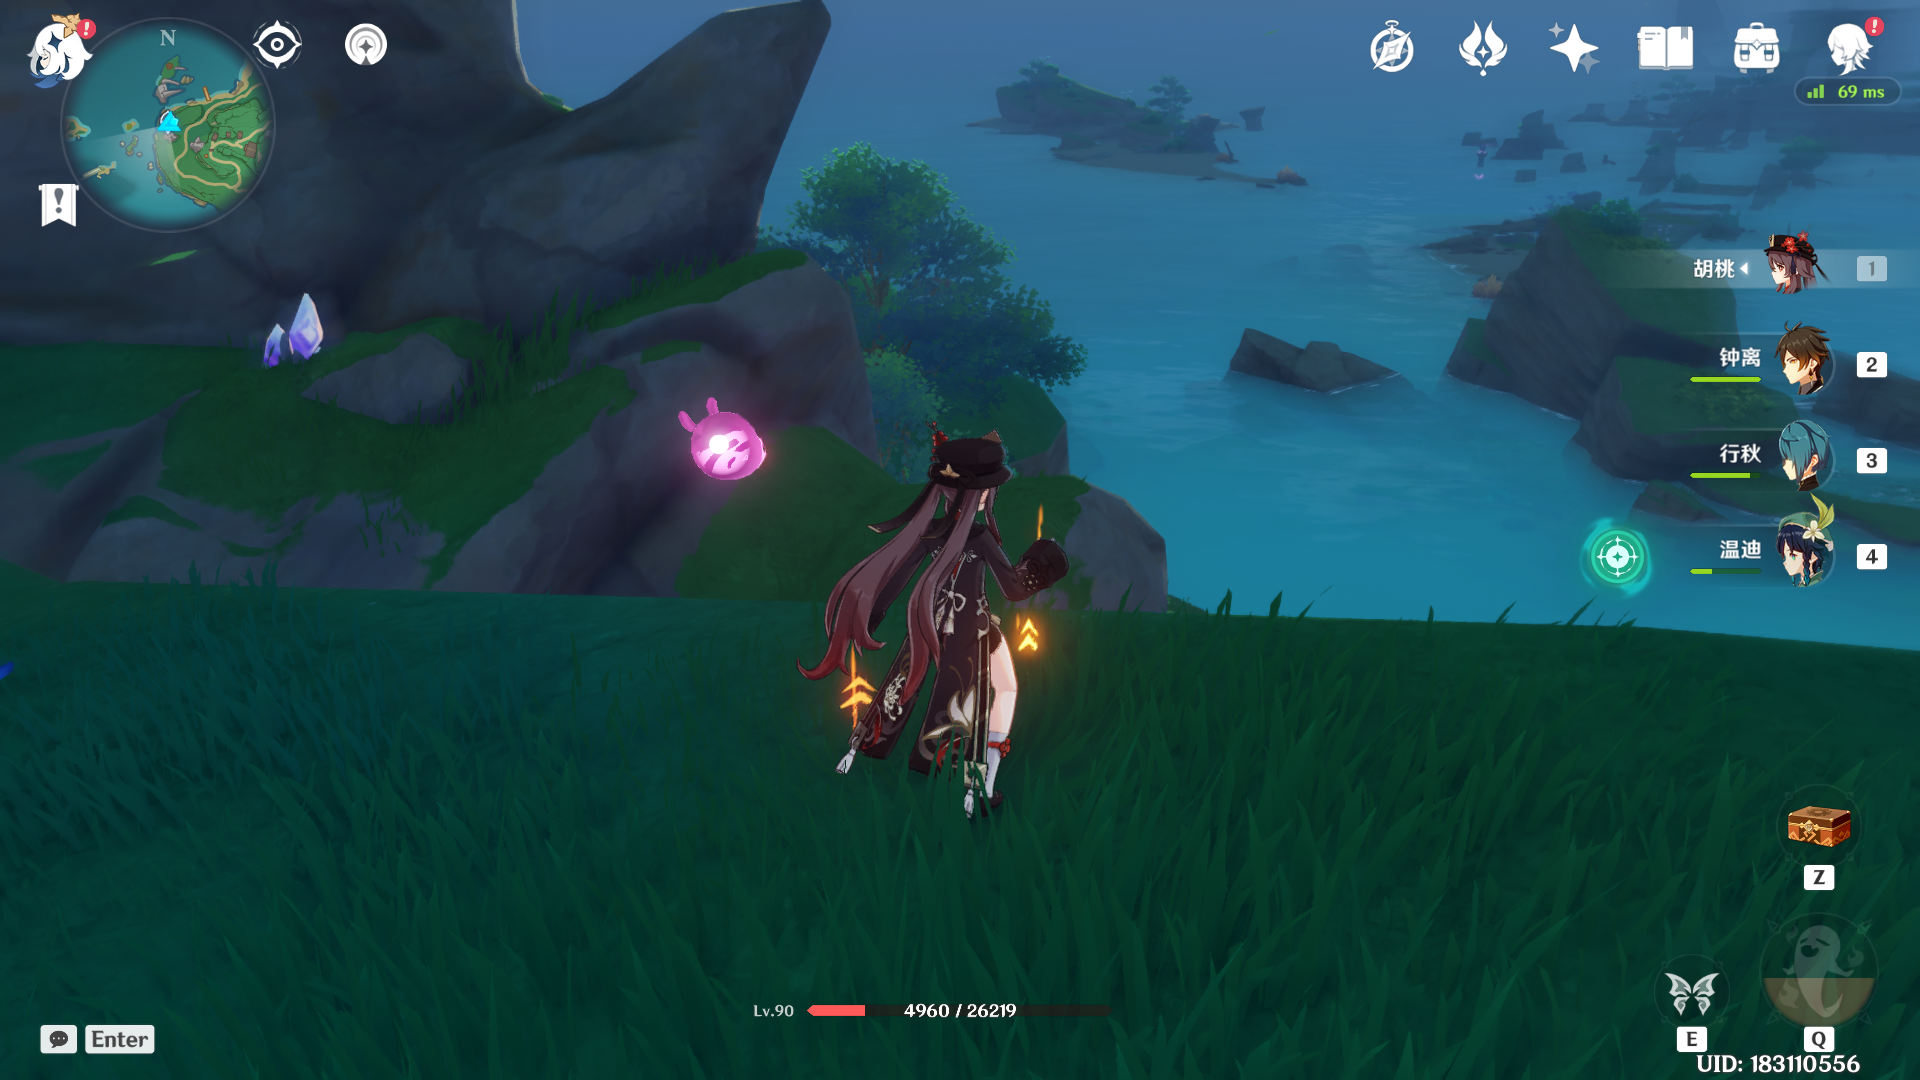character: (812, 410, 1104, 839)
